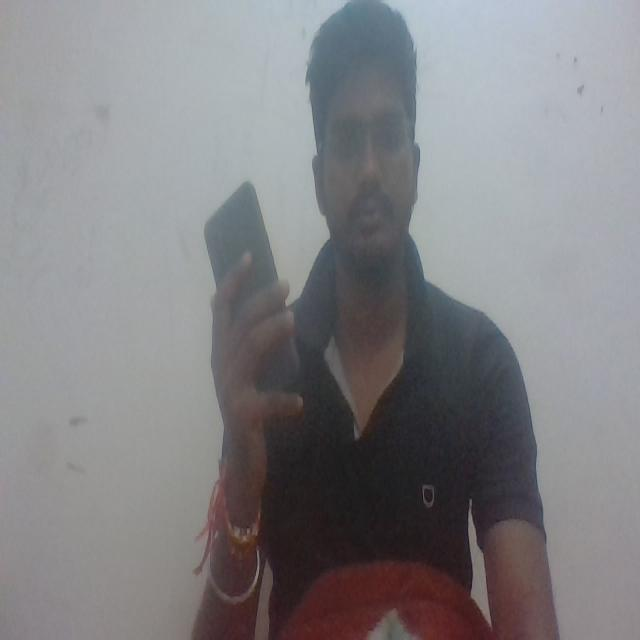Phone: (200, 176, 304, 394)
